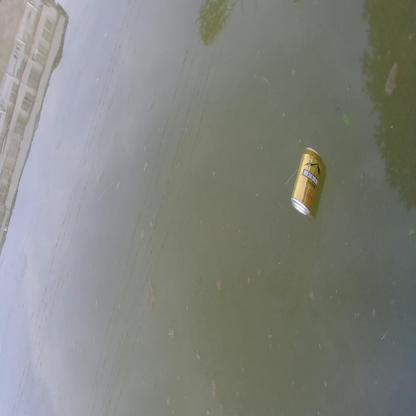can: (291, 146, 322, 215)
